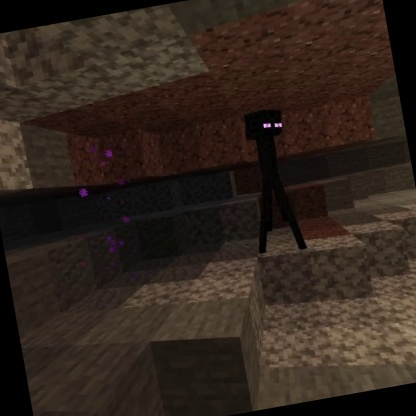enderman: (233, 104, 311, 260)
